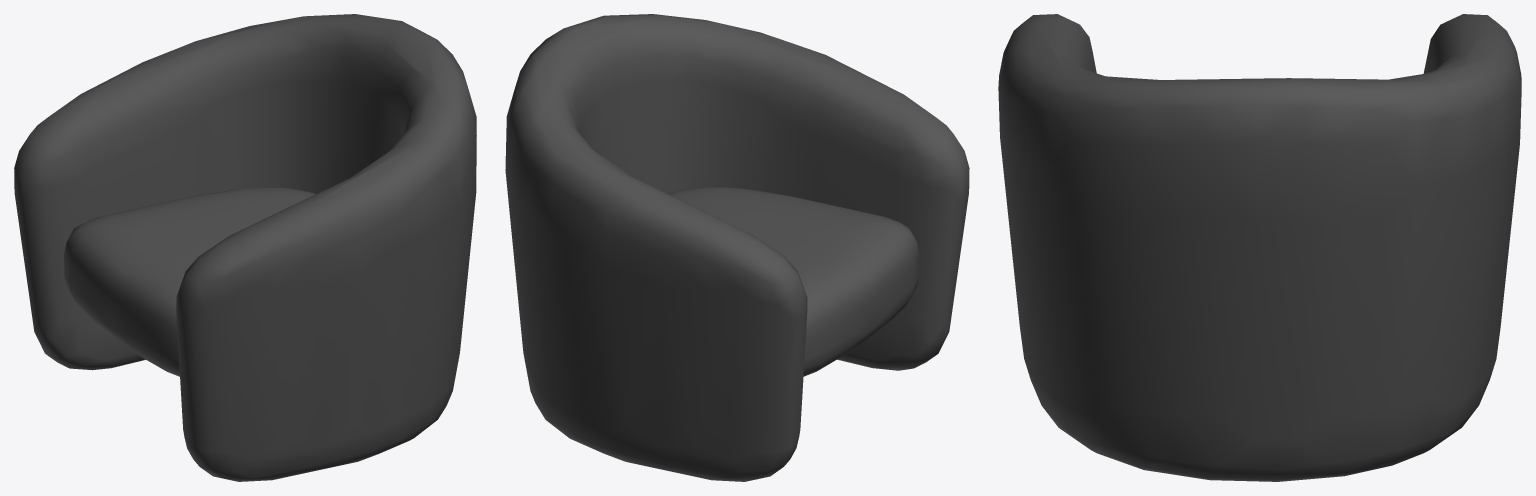
File: armchair_05_black.fbx
3 views of the same model, side by side, from view 1: azimuth 30°, elevation 25°; view 2: azimuth 150°, elevation 25°; view 3: azimuth 270°, elevation 25° (orthographic). The views are drawn at different scales.
Visible parts, largest first — view 1: armchair_05_black; view 2: armchair_05_black; view 3: armchair_05_black.
Part boxes in pixels (bbox=[...]): armchair_05_black: bbox=[14, 14, 476, 481]; armchair_05_black: bbox=[505, 14, 969, 481]; armchair_05_black: bbox=[998, 14, 1521, 481].
Size of the model in its own units: 113 by 103 by 120.
1 material, 1 textured.
